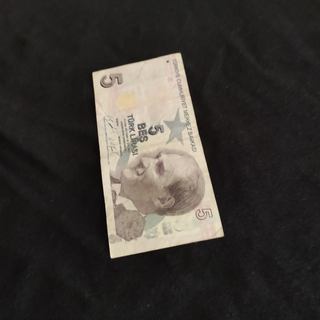5TLFront: (92, 52, 224, 258)
